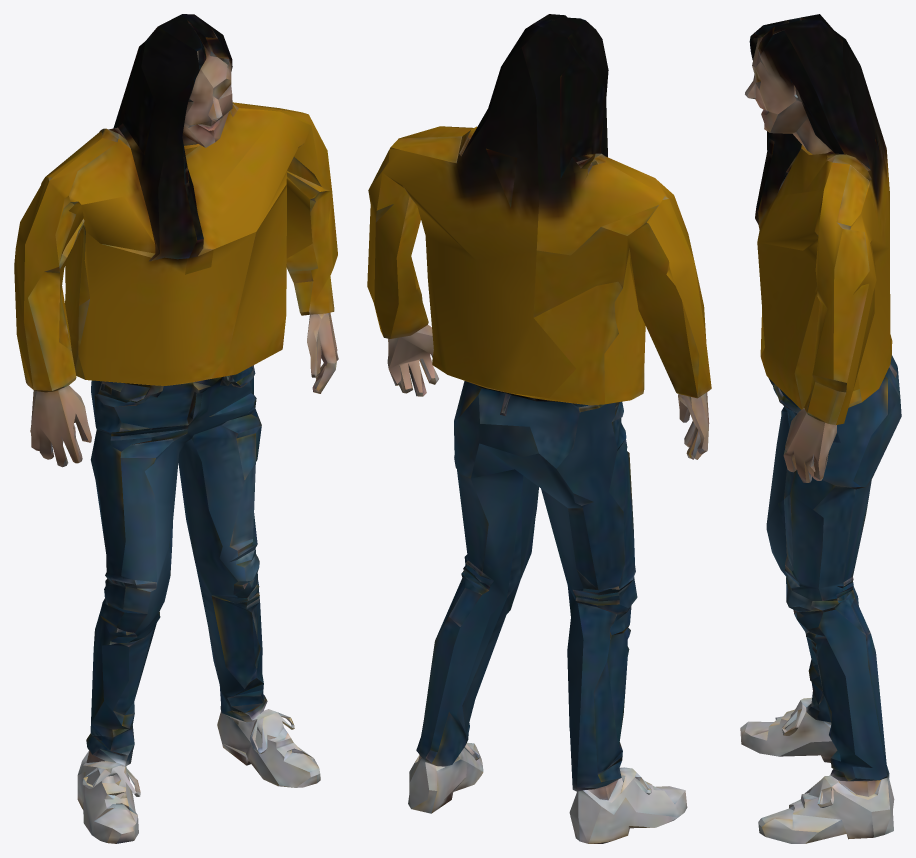
File: wanita_idle_lod2.glb
3 renders of one model, left to right at view 1: azimuth 30°, elevation 25°; view 2: azimuth 150°, elevation 25°; view 3: azimuth 270°, elevation 25°, orthographic.
Visible parts, largest first — view 1: tripo_node_79ef41da; view 2: tripo_node_79ef41da; view 3: tripo_node_79ef41da.
Boxes of the visible parts, <box> form: tripo_node_79ef41da: <box>14,14,338,843</box>; tripo_node_79ef41da: <box>367,14,711,843</box>; tripo_node_79ef41da: <box>740,14,901,843</box>.
Bounding box in the file's own units: 44.08 × 102 × 19.28.
Materials: 1 (1 with a texture image).
